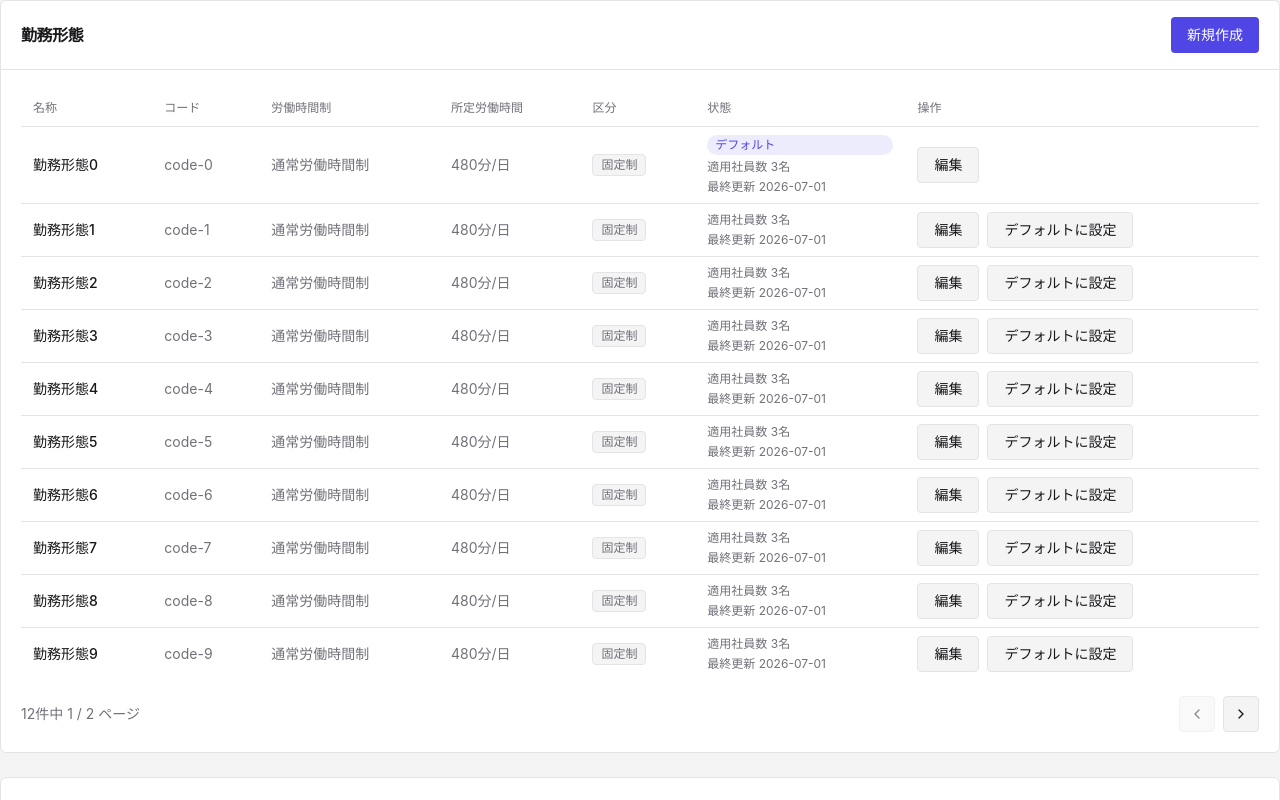
Test case: WorkStylesPage › paginates the work style list on the client side
The width and height of the screenshot is (1280, 800).
expect the text "勤務形態0" is shown: met, box 21,126 -> 152,203
expect the text "勤務形態10" is not shown: met
Click the button named "次のページ" at (1241, 714), box 1223,696 -> 1259,732
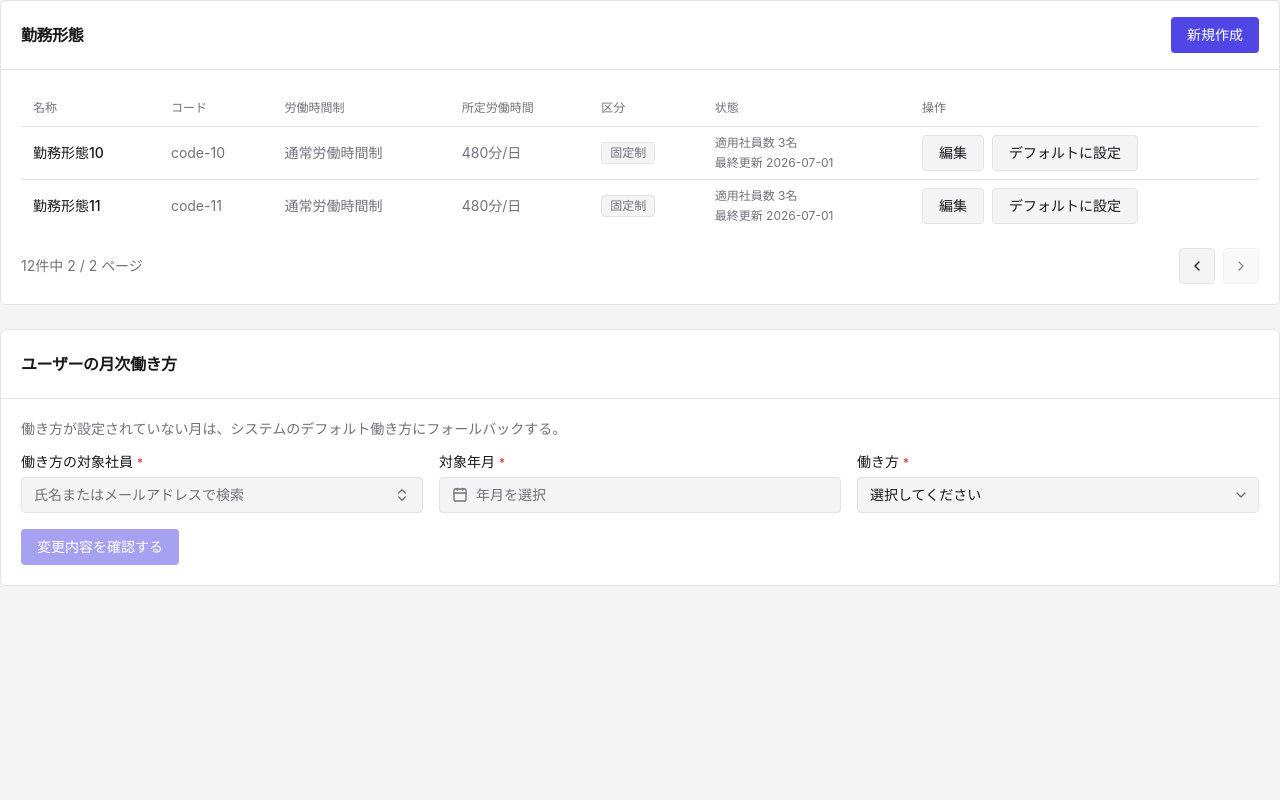
expect the text "勤務形態10" is shown: met, box 21,126 -> 159,179
expect the text "勤務形態0" is gone: met
